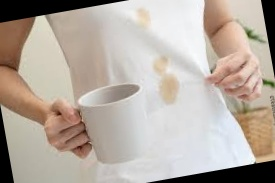coffee: (157, 72, 182, 107), (133, 6, 153, 31), (151, 55, 172, 76)
